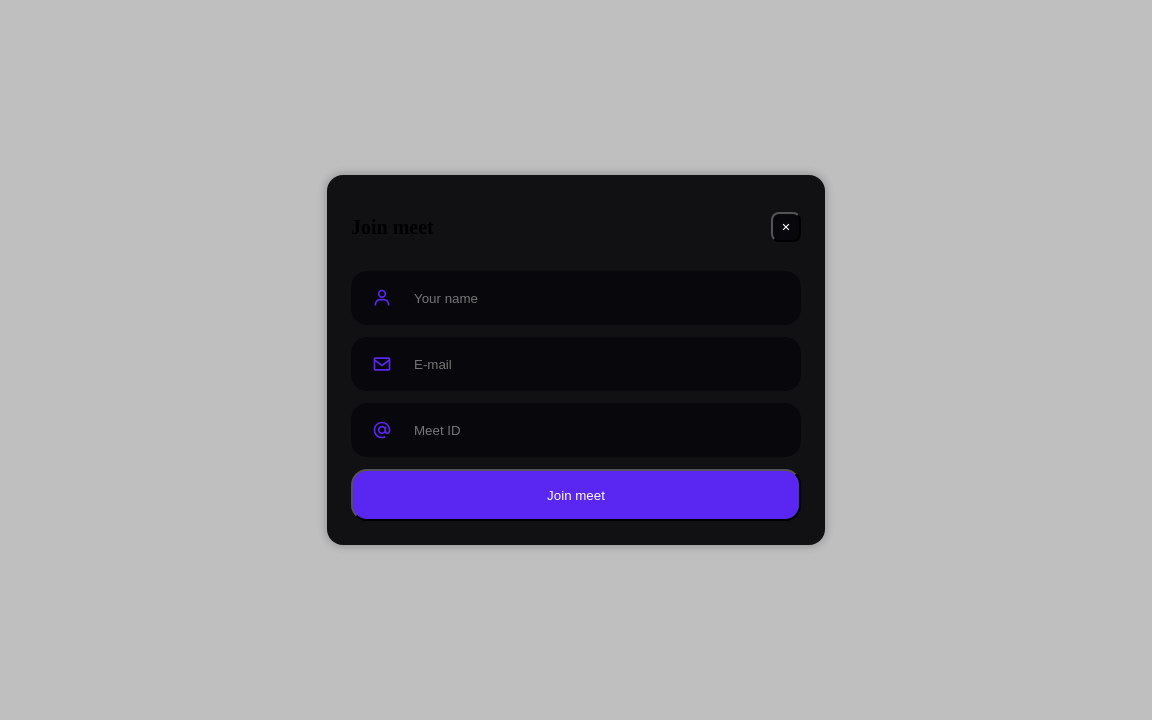
Test case: join meet modal component tests › expect to disable form button with invalid input values
Type "Ue" into the field with test id "joinMeetModalUserNameInput" at (596, 298), box [412, 271, 780, 325]
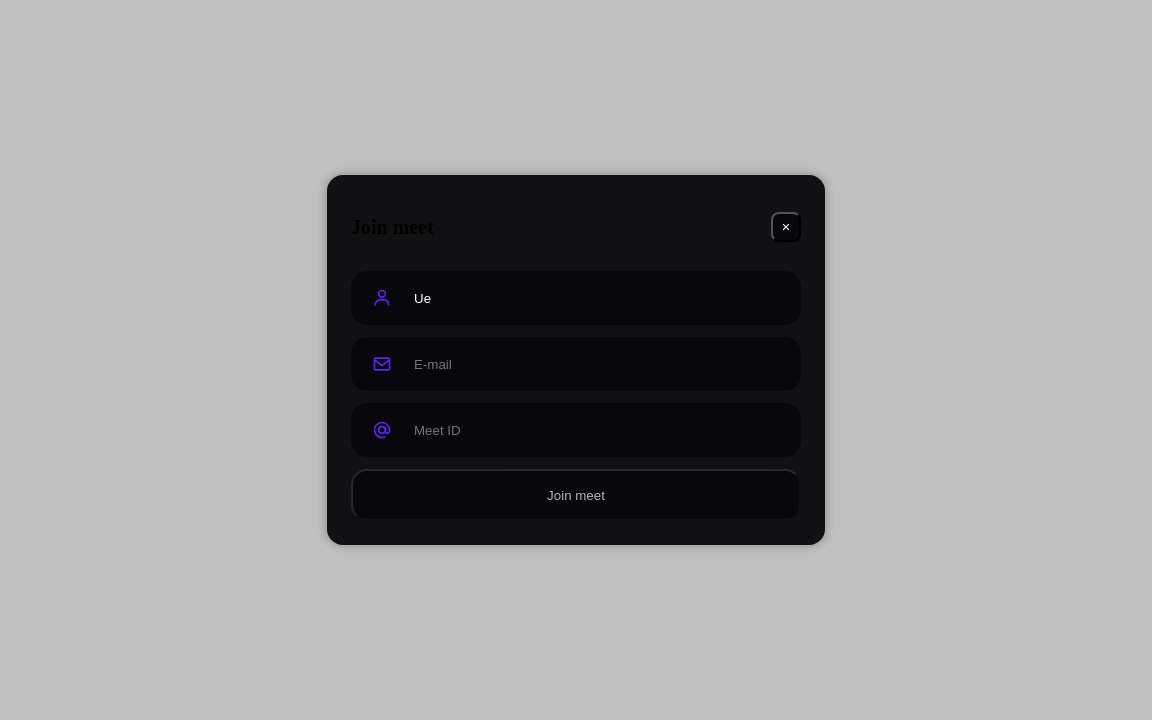
Expected: the button with test id "joinMeetButton" is disabled, [351, 469, 801, 521]
